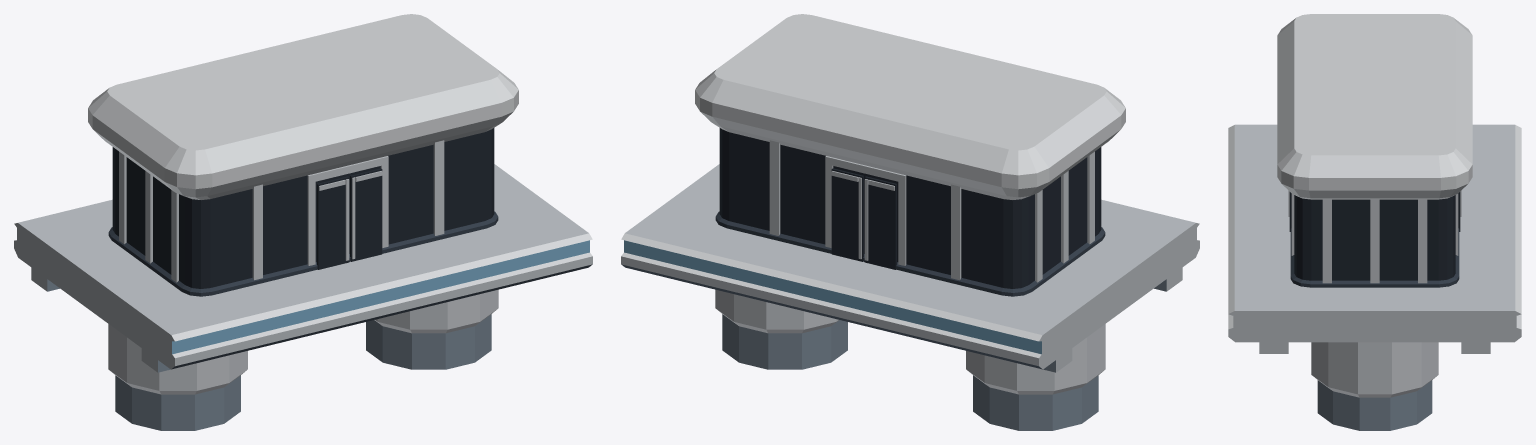
File: transit-station-module-ffb6c1.glb
3 renders of one model, left to right at view 1: azimuth 30°, elevation 25°; view 2: azimuth 150°, elevation 25°; view 3: azimuth 270°, elevation 25°, orthographic. The views are drawn at different scales.
Visible parts, largest first — view 1: station-module, door-front-r-mesh, door-front-l-mesh; view 2: station-module, door-back-r-mesh, door-back-l-mesh; view 3: station-module.
Part boxes in pixels (x1,y1,x2,y2): station-module: (14, 14, 592, 430); door-front-r-mesh: (350, 168, 382, 261); door-front-l-mesh: (317, 176, 349, 269); station-module: (621, 14, 1199, 430); door-back-r-mesh: (831, 168, 863, 261); door-back-l-mesh: (864, 176, 896, 269); station-module: (1228, 14, 1521, 430).
Bounding box in the file's own units: 12 × 8 × 8.
